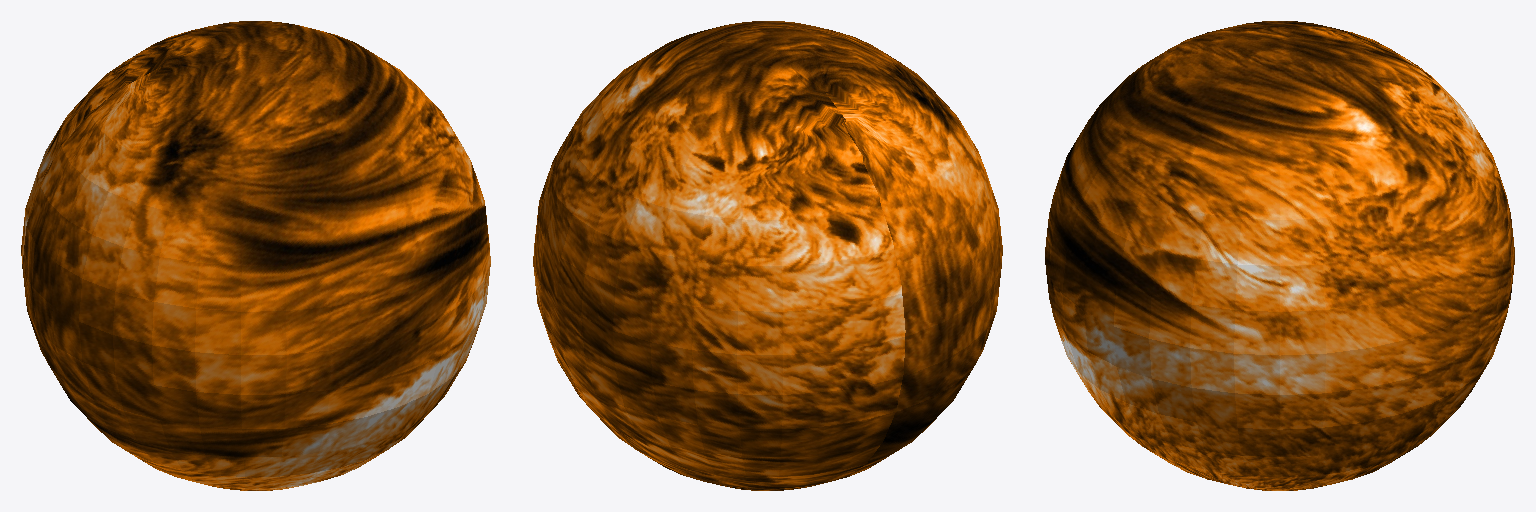
The picture shows the model from 3 angles: view 1: azimuth 30°, elevation 25°; view 2: azimuth 150°, elevation 25°; view 3: azimuth 270°, elevation 25°; orthographic projection.
Parts seen in each view (by area): view 1: Sphere; view 2: Sphere; view 3: Sphere.
Boxes of the visible parts, <box> form: Sphere: <box>21,21,490,490</box>; Sphere: <box>533,21,1002,490</box>; Sphere: <box>1045,21,1514,490</box>.
Bounding box in the file's own units: 2 × 2 × 2.
Materials: 1 (1 with a texture image).